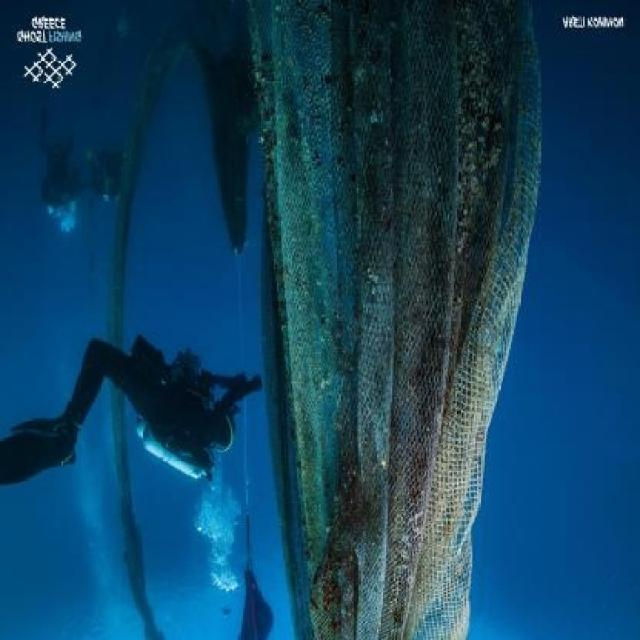net: (256, 1, 545, 640)
